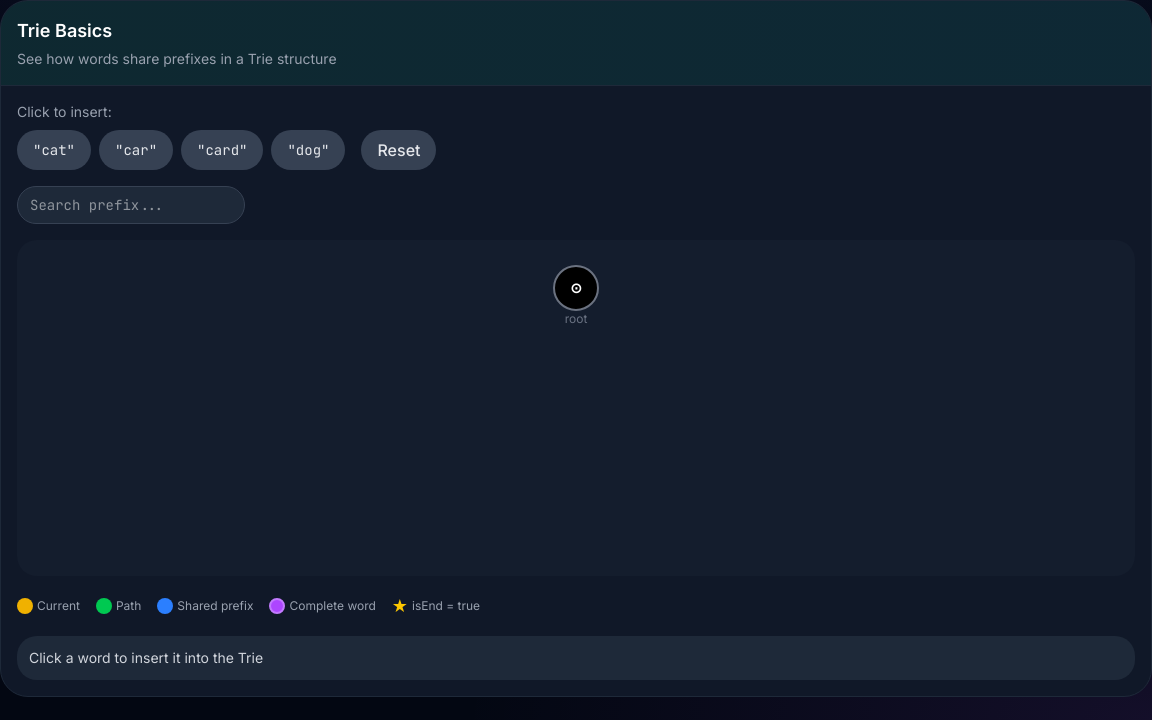
Scenario: Trie Visualizers › TrieBasicsVisualizer › inserts a word when clicked
Click the button "\"cat\"": coordinates (54, 150) [17,130,91,170]
Wait 600 ms
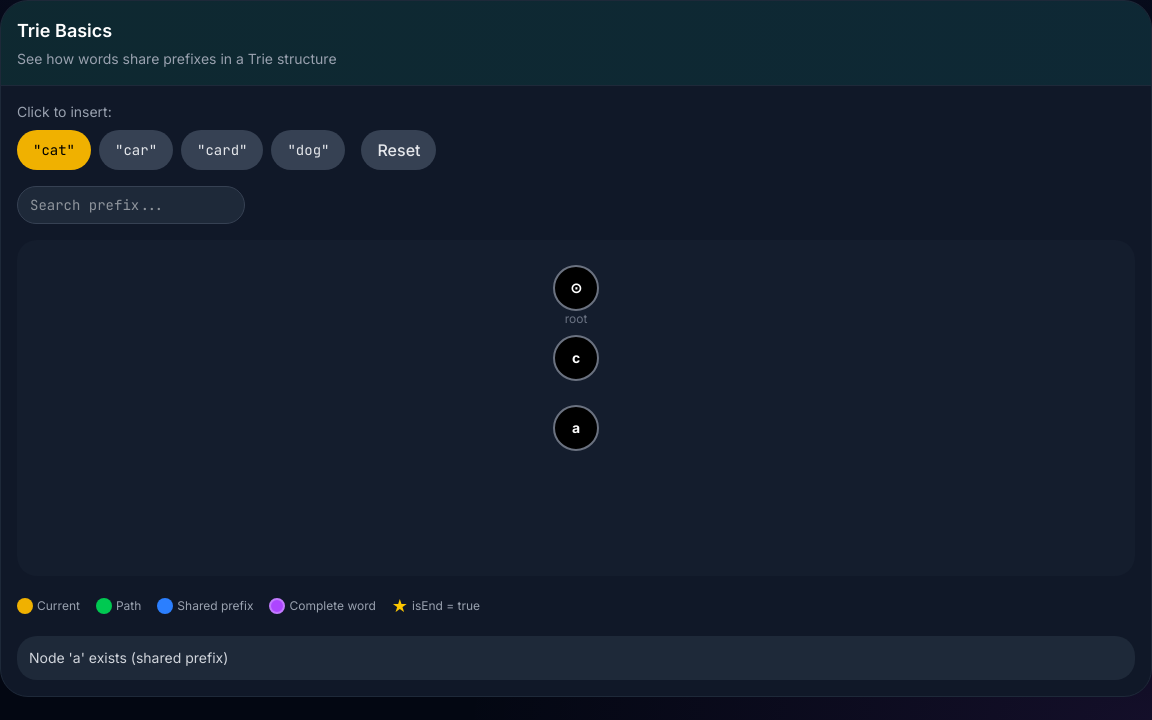
Expected: the text "Node 'a' exists (shared prefix)" is shown, [17,636,1135,680]
